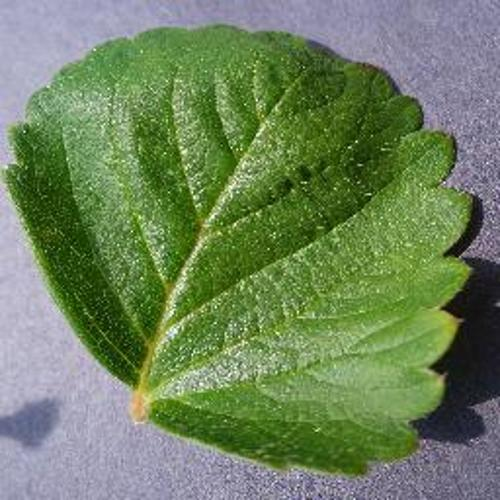Strawberry: (6, 26, 476, 477)
